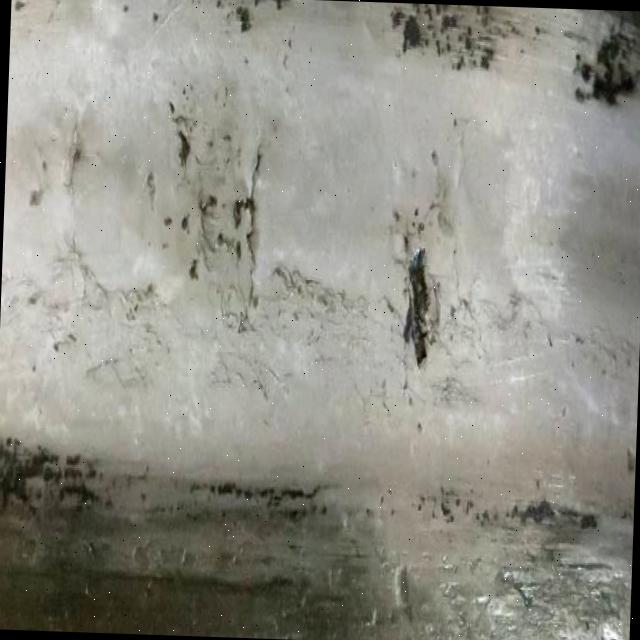Blue hole: (397, 239, 436, 367), (595, 24, 640, 105)
Contact_Fatigue_Cracks: (59, 221, 170, 345), (262, 257, 389, 348), (212, 267, 263, 393), (441, 262, 487, 378), (246, 130, 268, 191)
Peeling: (1, 443, 51, 510), (232, 195, 259, 264), (515, 497, 558, 525), (60, 482, 97, 510), (403, 15, 421, 57), (175, 130, 192, 170), (573, 53, 594, 82), (285, 486, 316, 504), (200, 195, 219, 220), (237, 5, 253, 33), (582, 510, 602, 530), (218, 479, 238, 496), (391, 7, 403, 29), (189, 261, 199, 283), (182, 214, 192, 234), (67, 457, 84, 467), (288, 510, 300, 519), (218, 234, 225, 248)
